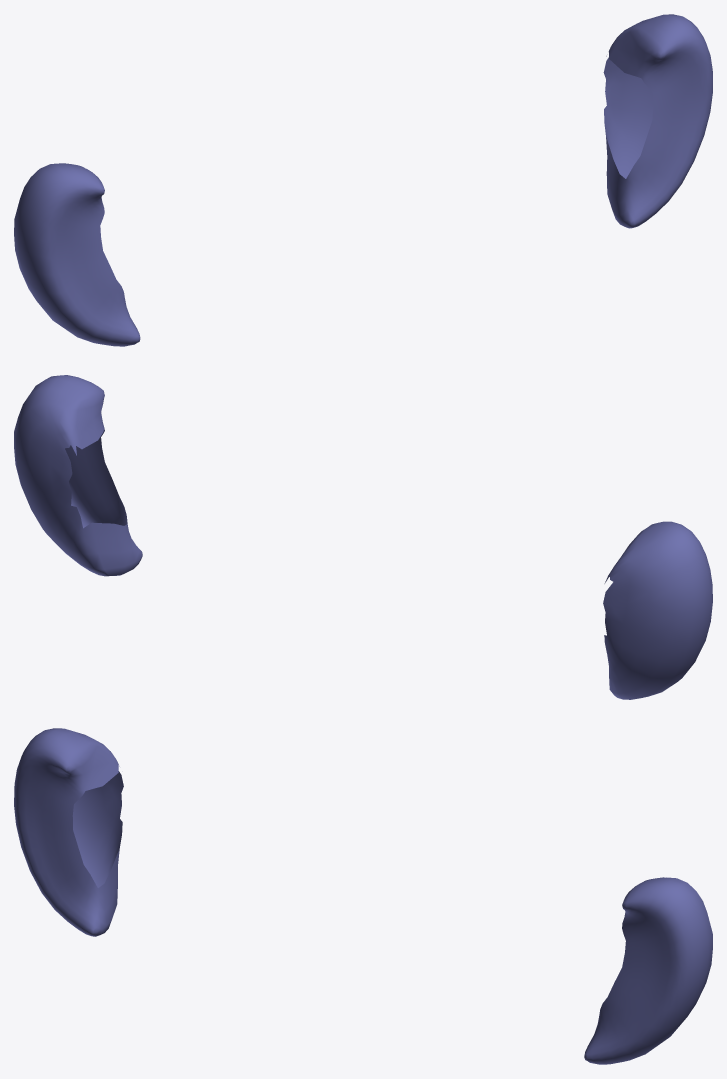
Rendered from Ears.fbx.
3 views of the same model, one above another, from view 1: azimuth 30°, elevation 25°; view 2: azimuth 150°, elevation 25°; view 3: azimuth 330°, elevation 25° (orthographic).
Parts seen in each view (by area): view 1: Ears1; view 2: Ears1; view 3: Ears1.
Part boxes in pixels (x1=…): Ears1: x1=14, y1=14, x2=712, y2=346; Ears1: x1=14, y1=375, x2=712, y2=699; Ears1: x1=14, y1=728, x2=712, y2=1064.
Size of the model in its own units: 13.68 by 3.57 by 1.73.
